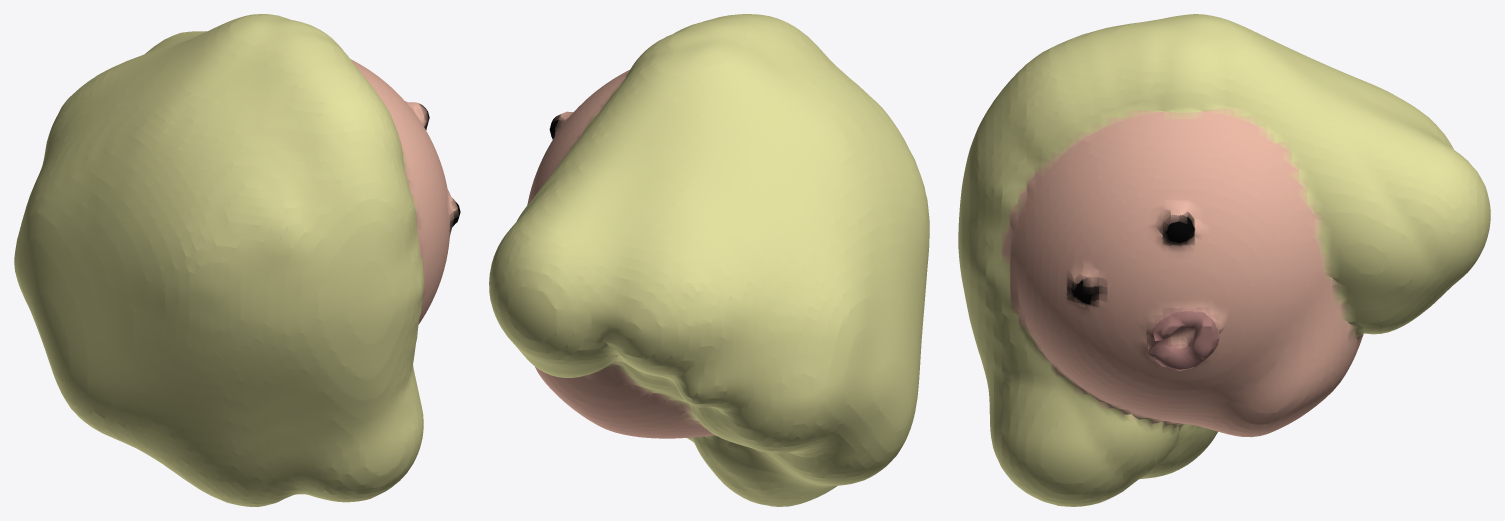
File: rachel-head.gltf
3 renders of one model, left to right at view 1: azimuth 30°, elevation 25°; view 2: azimuth 150°, elevation 25°; view 3: azimuth 270°, elevation 25°, orthographic. The views are drawn at different scales.
Visible parts, largest first — view 1: Layer_1; view 2: Layer_1; view 3: Layer_1.
Part boxes in pixels (<box>): Layer_1: <box>14,14,460,506</box>; Layer_1: <box>489,14,929,506</box>; Layer_1: <box>958,14,1490,506</box>.
Size of the model in its own units: 42.01 by 48.82 by 49.63.
1 material, 1 textured.
